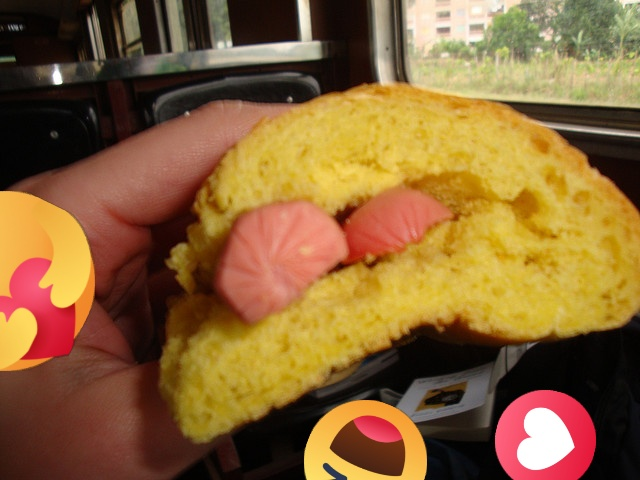care: (0, 191, 95, 371)
haha: (304, 400, 427, 480)
love: (495, 390, 596, 480)
